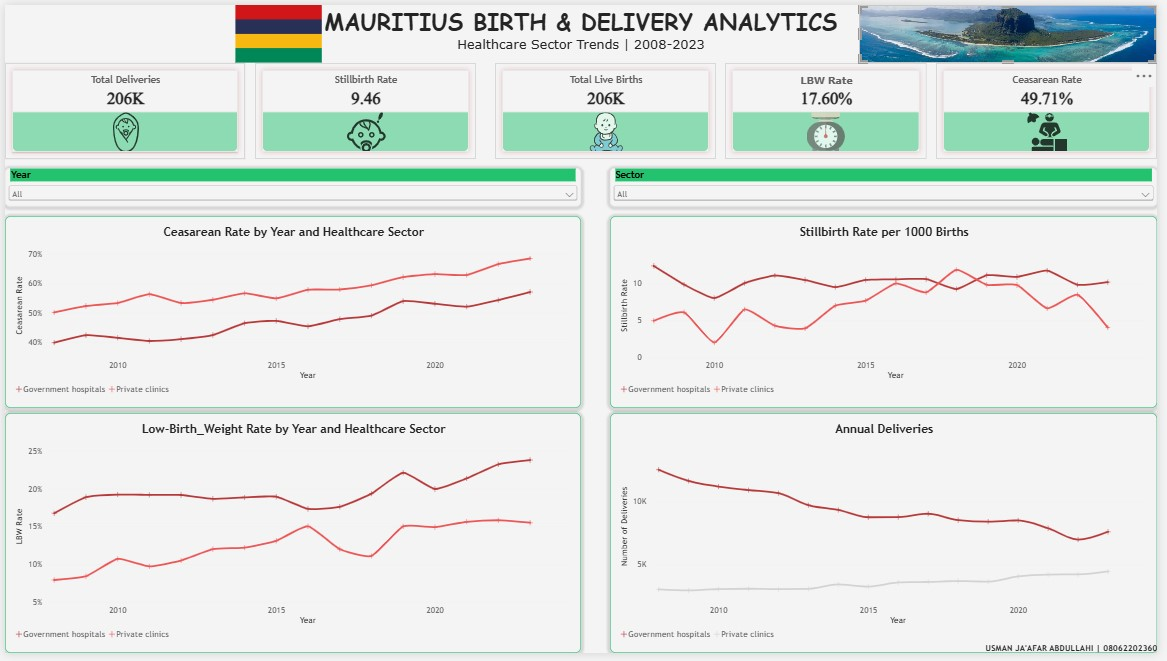

The page's visual inventory and layout, read from the dashboard file:
{"tool":"powerbi","page":{"name":"Page 1","canvas":[1920,1080],"ordinal":0},"visuals":[{"type":"cardVisual","fields":{"Data":["mauritius_birth_statistics_analysis.Total Deliveries"]},"box":[0,96,400,160],"z":0},{"type":"cardVisual","fields":{"Data":["mauritius_birth_statistics_analysis.Total Live Births"]},"box":[816,96,368,160],"z":1000},{"type":"cardVisual","fields":{"Data":["mauritius_birth_statistics_analysis.Ceasarean Rate"]},"box":[1552,96,368,160],"z":2000},{"type":"cardVisual","fields":{"Data":["mauritius_birth_statistics_analysis.LBW Rate"]},"box":[1200,96,336,160],"z":3000},{"type":"cardVisual","fields":{"Data":["mauritius_birth_statistics_analysis.Stillbirth Rate"]},"box":[416,96,368,160],"z":4000},{"type":"slicer","fields":{"Values":["mauritius_birth_statistics_analysis.Year"]},"box":[0,272,960,64],"z":5000},{"type":"lineChart","title":"Annual Deliveries","fields":{"Category":["mauritius_birth_statistics_analysis.Year"],"Series":["mauritius_birth_statistics_analysis.Sector"],"Y":["Sum(mauritius_birth_statistics_analysis.Deliveries)"]},"box":[1008,680,912,400],"z":6000},{"type":"lineChart","title":"Ceasarean Rate by Year and Healthcare Sector","fields":{"Category":["mauritius_birth_statistics_analysis.Year"],"Series":["mauritius_birth_statistics_analysis.Sector"],"Y":["mauritius_birth_statistics_analysis.Ceasarean Rate"]},"box":[0,352,960,320],"z":7000},{"type":"lineChart","title":"Low-Birth_Weight Rate by Year and Healthcare Sector","fields":{"Category":["mauritius_birth_statistics_analysis.Year"],"Series":["mauritius_birth_statistics_analysis.Sector"],"Y":["mauritius_birth_statistics_analysis.LBW Rate"]},"box":[0,680,960,400],"z":8000},{"type":"lineChart","title":"Stillbirth Rate per 1000 Births ","fields":{"Category":["mauritius_birth_statistics_analysis.Year"],"Series":["mauritius_birth_statistics_analysis.Sector"],"Y":["mauritius_birth_statistics_analysis.Stillbirth Rate"]},"box":[1008,352,912,320],"z":9000},{"type":"slicer","fields":{"Values":["mauritius_birth_statistics_analysis.Sector"]},"box":[1008,272,912,64],"z":10000},{"type":"textbox","box":[0,0,1920,80],"z":11000},{"type":"image","box":[0,0,912,96],"z":12000},{"type":"textbox","box":[976,1064,944,16],"z":13000}]}

Visuals, with their boxes in screenshot pixels (x1, y1, x2, y2), scaled from the page's 1920x1080 canvas onto the 1167x661 screenshot:
cardVisual - mauritius_birth_statistics_analysis.Total Deliveries: <bbox>0, 59, 243, 157</bbox>
cardVisual - mauritius_birth_statistics_analysis.Total Live Births: <bbox>496, 59, 720, 157</bbox>
cardVisual - mauritius_birth_statistics_analysis.Ceasarean Rate: <bbox>943, 59, 1166, 157</bbox>
cardVisual - mauritius_birth_statistics_analysis.LBW Rate: <bbox>729, 59, 934, 157</bbox>
cardVisual - mauritius_birth_statistics_analysis.Stillbirth Rate: <bbox>253, 59, 477, 157</bbox>
slicer - mauritius_birth_statistics_analysis.Year: <bbox>0, 166, 584, 206</bbox>
"Annual Deliveries" lineChart: <bbox>613, 416, 1166, 660</bbox>
"Ceasarean Rate by Year and Healthcare Sector" lineChart: <bbox>0, 215, 584, 411</bbox>
"Low-Birth_Weight Rate by Year and Healthcare Sector" lineChart: <bbox>0, 416, 584, 660</bbox>
"Stillbirth Rate per 1000 Births " lineChart: <bbox>613, 215, 1166, 411</bbox>
slicer - mauritius_birth_statistics_analysis.Sector: <bbox>613, 166, 1166, 206</bbox>
textbox: <bbox>0, 0, 1166, 49</bbox>
image: <bbox>0, 0, 554, 59</bbox>
textbox: <bbox>593, 651, 1166, 660</bbox>
